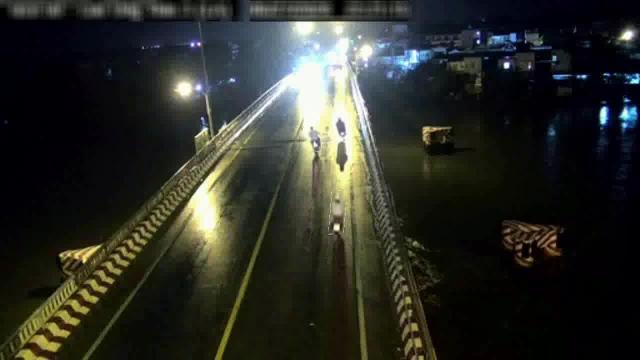Bike: (329, 191, 346, 235), (334, 112, 350, 142), (307, 126, 321, 152)
